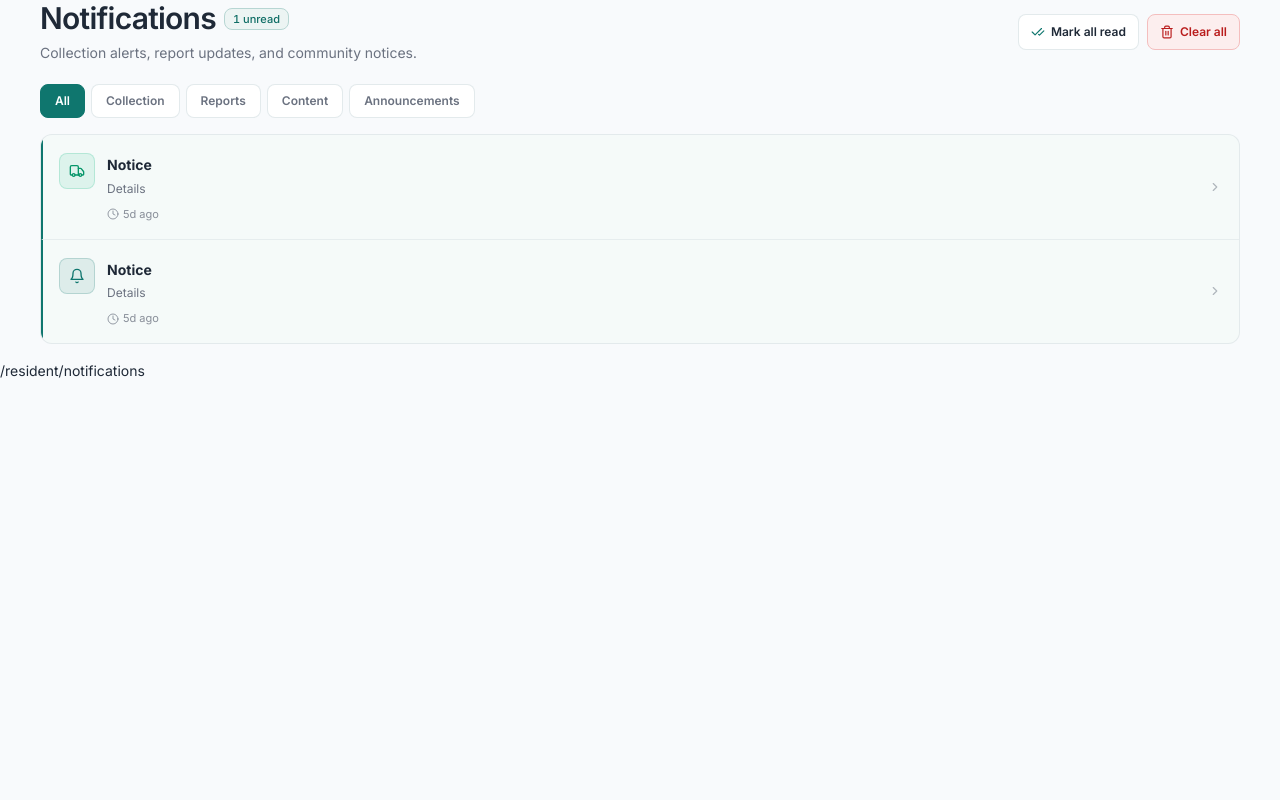
Test: shows a real pending live check and ignores it if a newer notification was opened
Click the 1st button with class "resident-notification-row": (77, 171) [41, 135, 1239, 239]
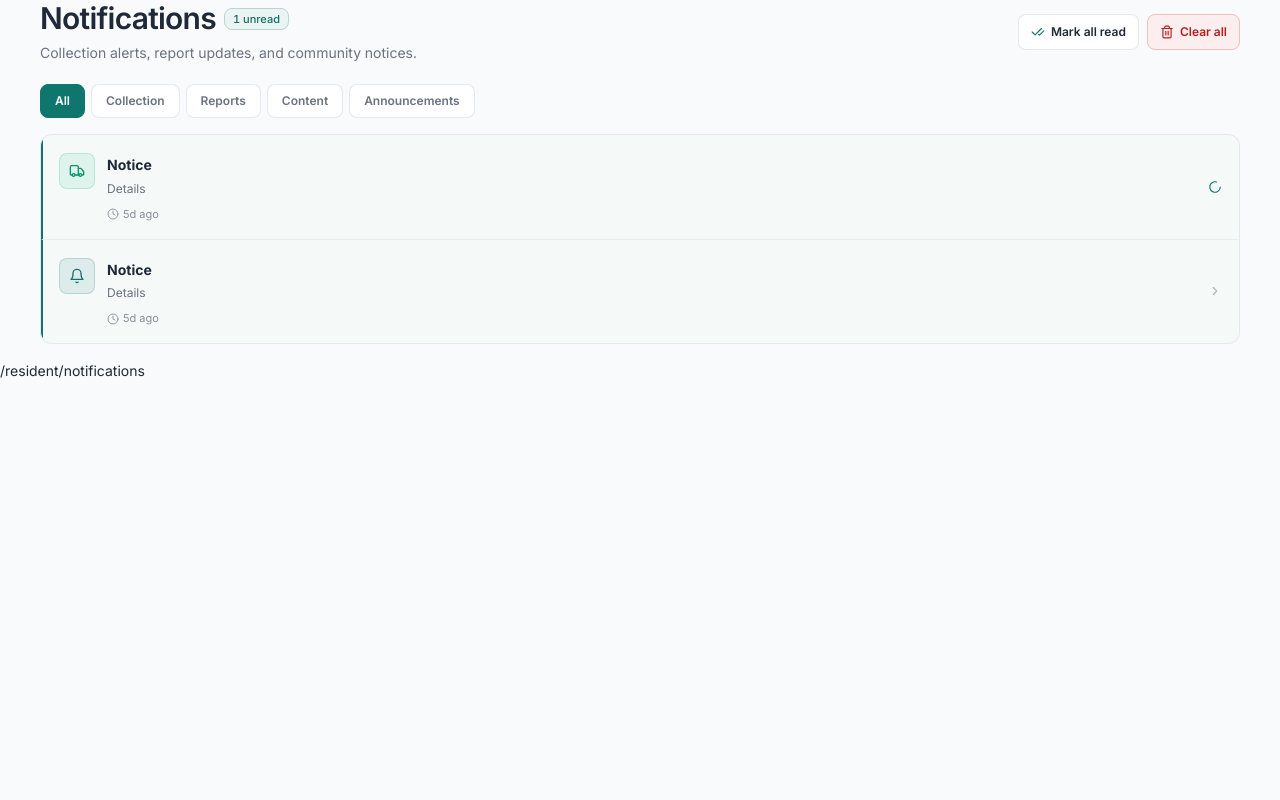
Check: the 1st button with class "resident-notification-row" is disabled, box [41, 135, 1239, 239]
Click the 2nd button with class "resident-notification-row": (77, 276) [41, 238, 1239, 343]
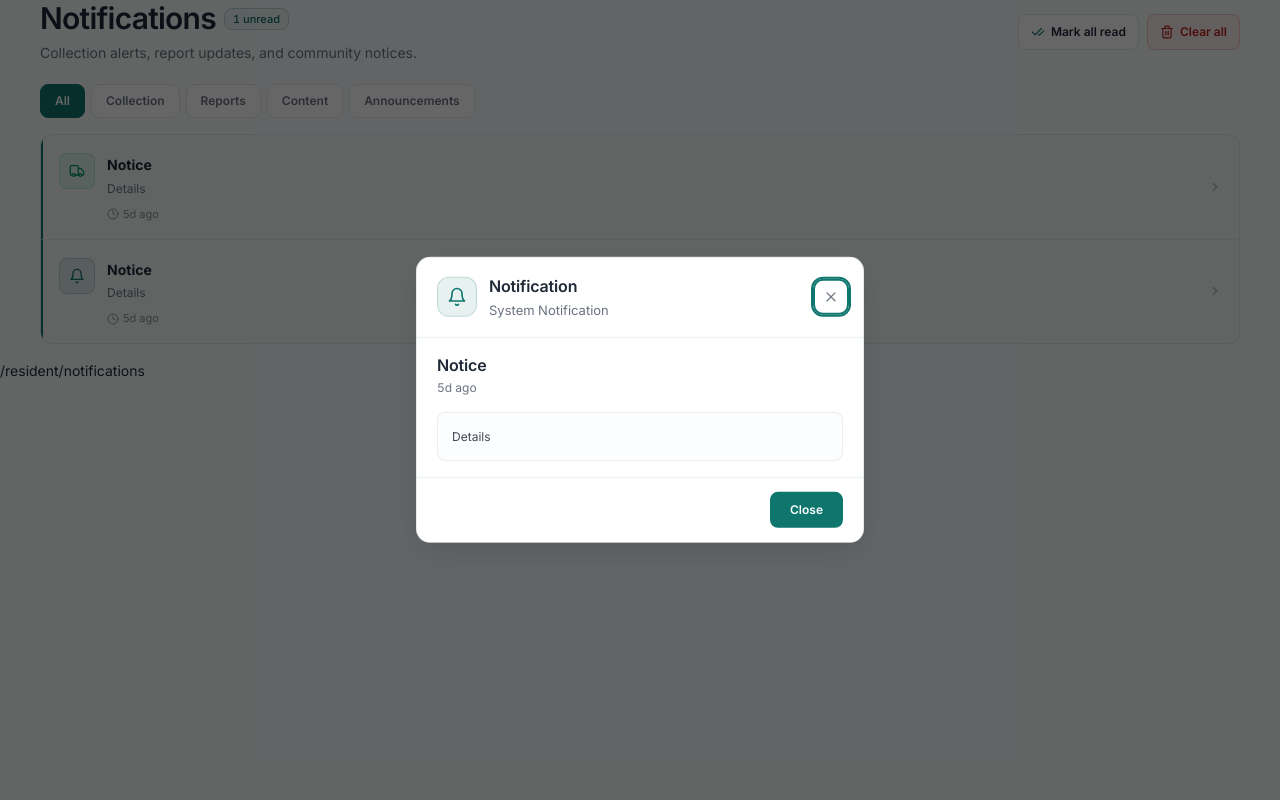
Check: the text with test id "location" reads "/resident/notifications", box [0, 362, 145, 379]
Check: the dialog shows "Details", box [452, 429, 490, 444]
